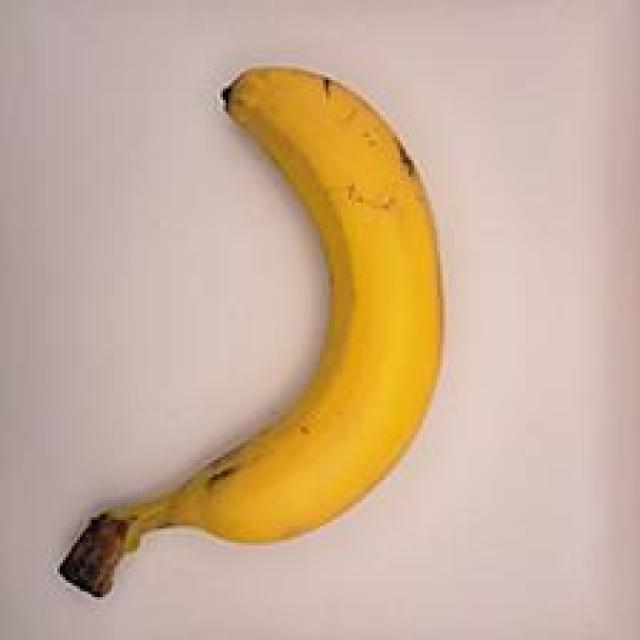Ripe: (44, 65, 479, 605)
